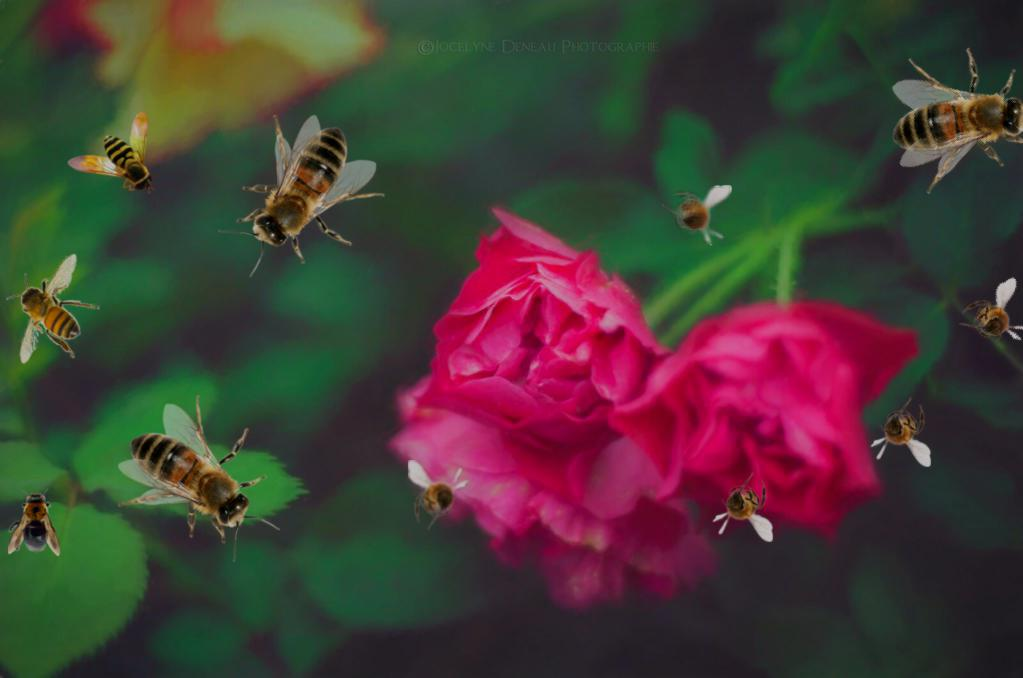Bee: (851, 1, 1023, 235), (118, 395, 280, 562), (218, 115, 385, 277), (6, 253, 100, 364), (67, 112, 155, 194), (950, 276, 1023, 362), (662, 185, 732, 246), (870, 397, 931, 467), (408, 460, 469, 530), (712, 472, 773, 542), (8, 488, 60, 556)
